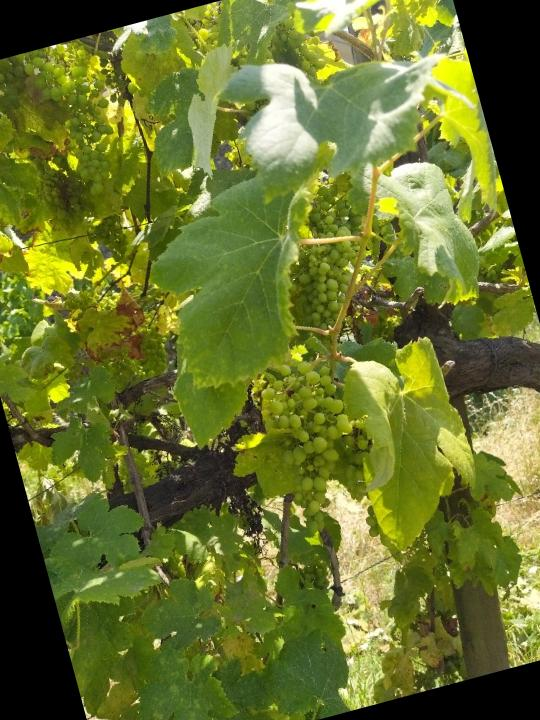grape: (249, 348, 379, 543), (265, 174, 392, 345)
